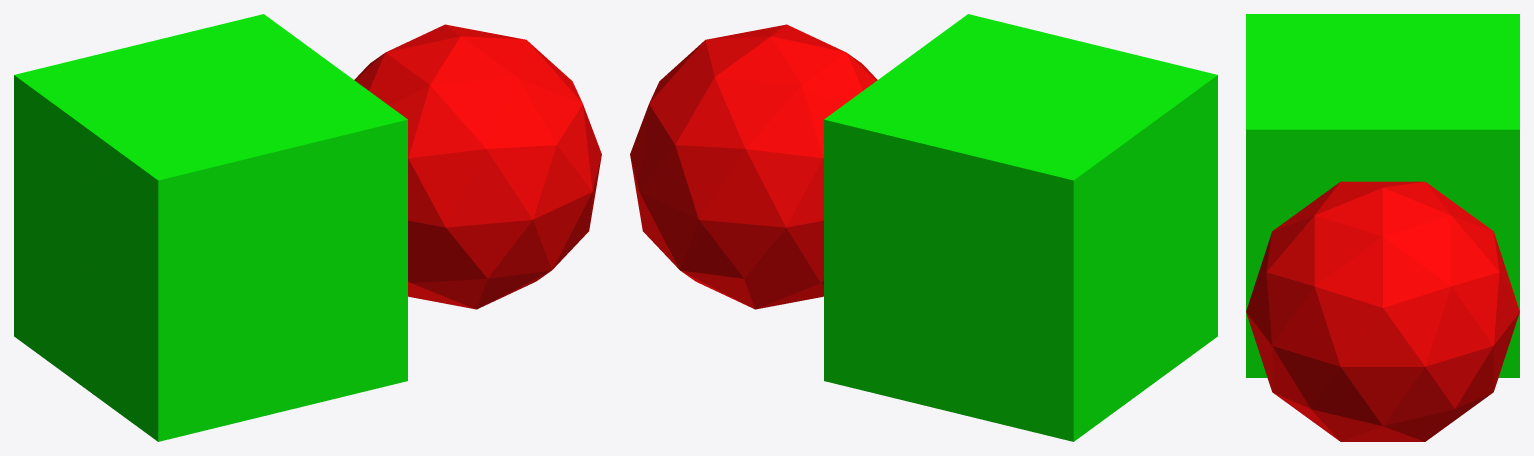
File: cube-blender_v2.80.gltf
3 renders of one model, left to right at view 1: azimuth 30°, elevation 25°; view 2: azimuth 150°, elevation 25°; view 3: azimuth 270°, elevation 25°, orthographic. The views are drawn at different scales.
Visible parts, largest first — view 1: Cube, Icosphere; view 2: Cube, Icosphere; view 3: Cube, Icosphere.
Boxes of the visible parts, <box> form: Cube: <box>14,14,407,441</box>; Icosphere: <box>354,24,601,309</box>; Cube: <box>824,14,1217,441</box>; Icosphere: <box>630,24,877,309</box>; Cube: <box>1246,14,1519,377</box>; Icosphere: <box>1246,181,1519,441</box>.
Bounding box in the file's own units: 3.95 × 2 × 2.
